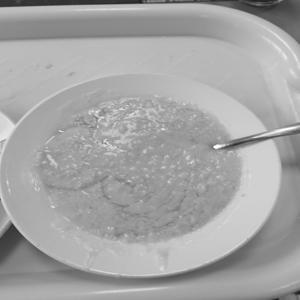porridge: (18, 90, 266, 262)
